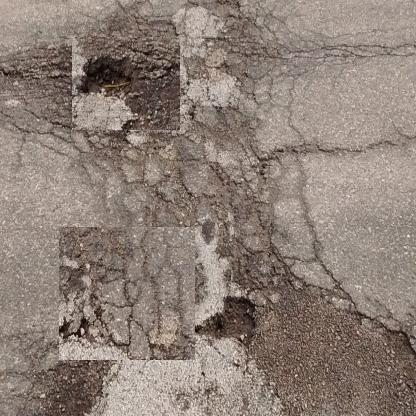crack: (58, 227, 195, 361)
pothole: (71, 37, 180, 131), (187, 284, 266, 360)
